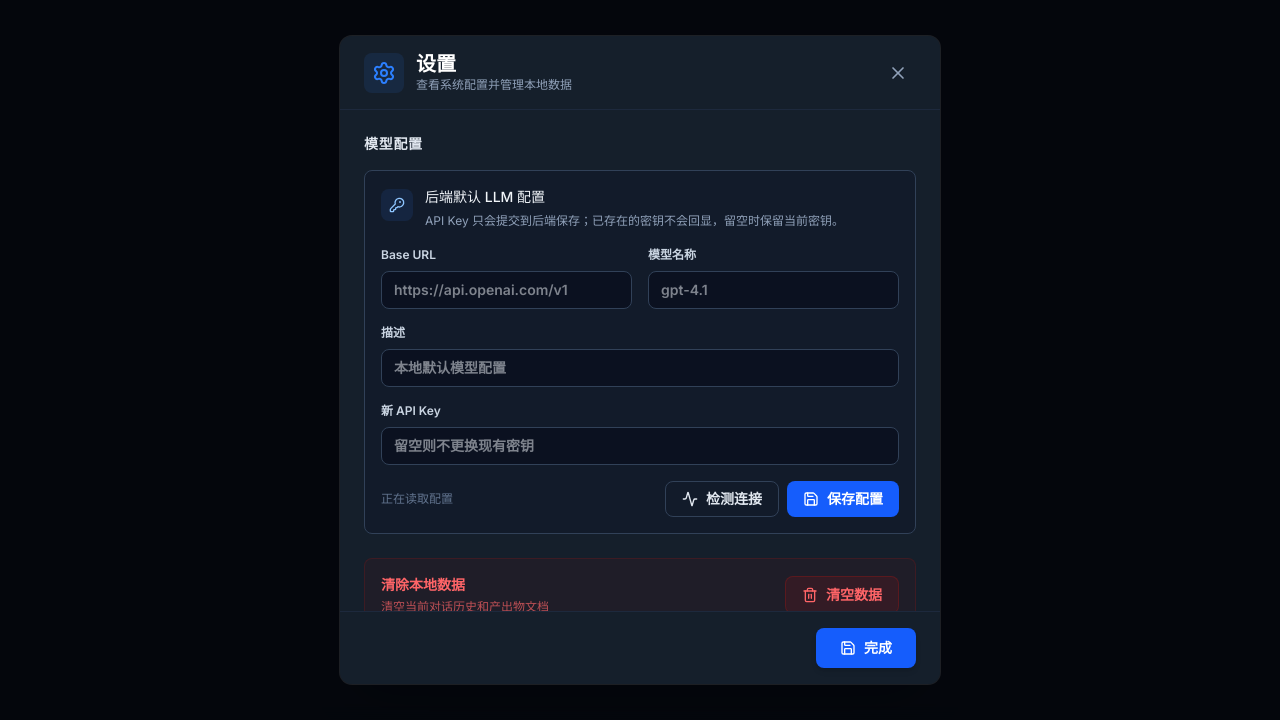
Test: SettingsModal Component › notifies workspace after a successful model connectivity check
Click the button "检测连接": (722, 498) [665,480,779,516]
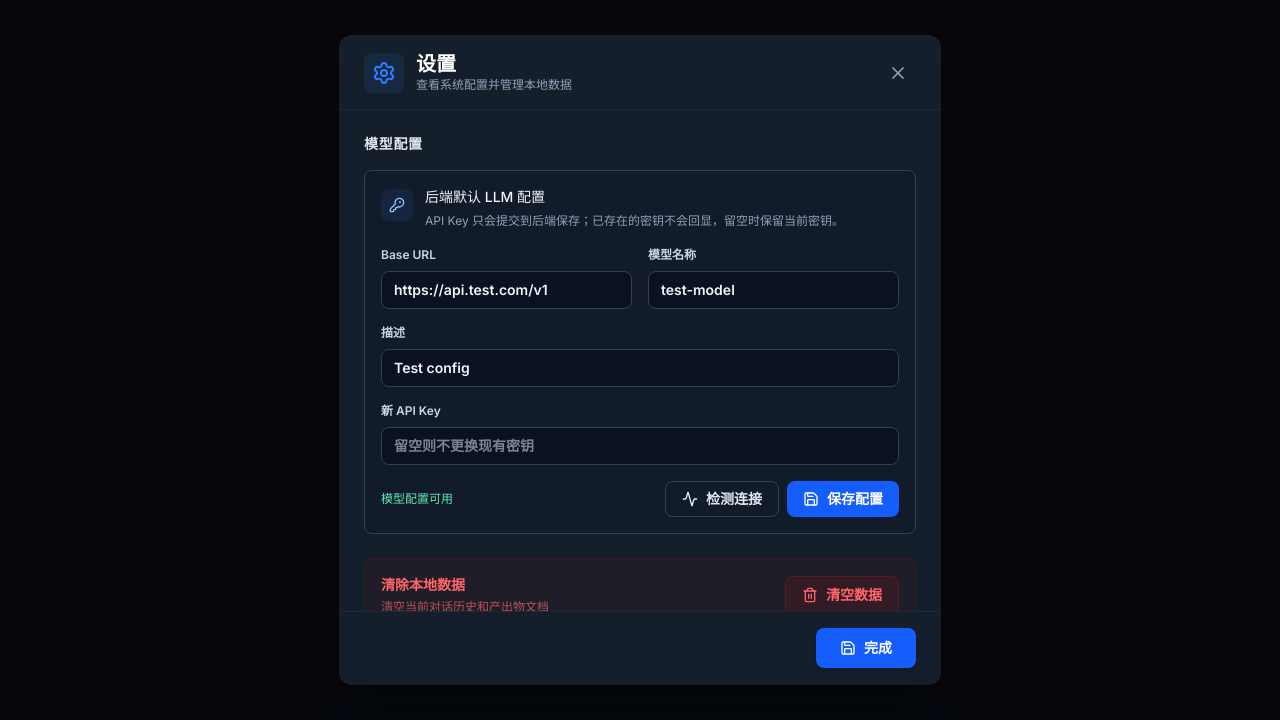
Expected: the text "模型配置可用" is shown, [381,490,453,506]
